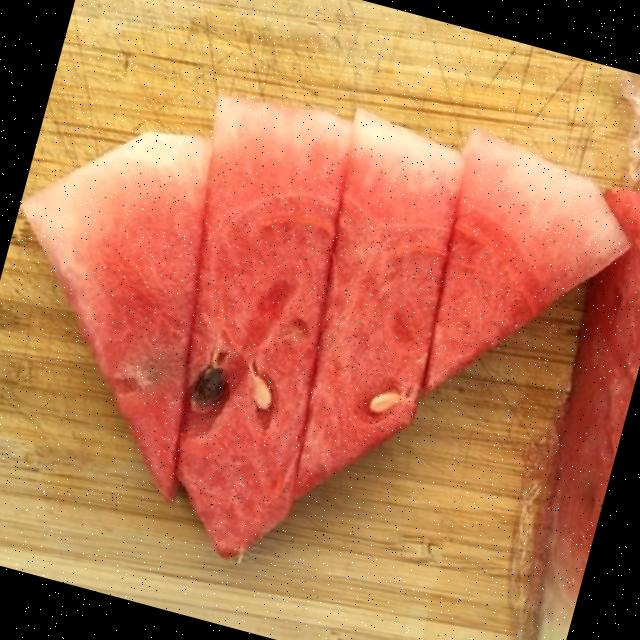watermelon-fresh: (26, 89, 636, 555)
